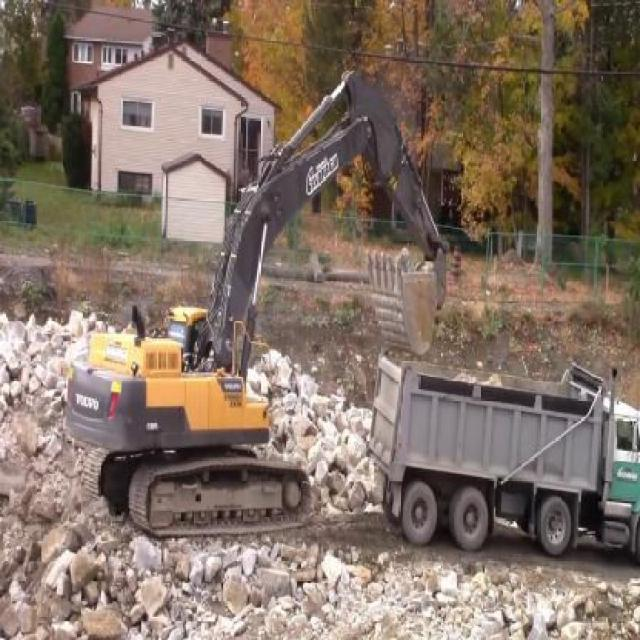dump_truck: (366, 346, 640, 560)
excavator: (67, 65, 450, 542)
